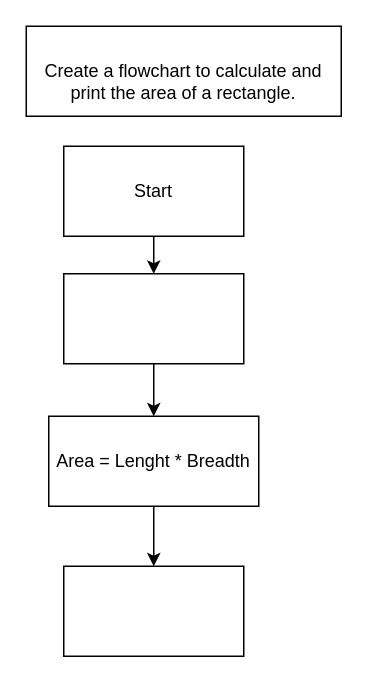
Some shapes in this 368 by 683 pixel diagram are drawn without their labels. The centre of each missing label's shape, as x and y in pixels:
Print Area: (x=153, y=610)
Set Length = 10, Breadth =11: (x=153, y=318)
